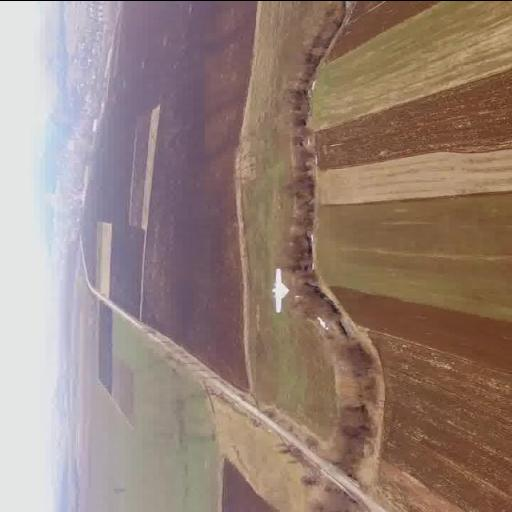uav: (258, 260, 312, 334)
